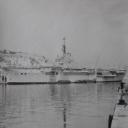Portanaves: (2, 34, 128, 87)
